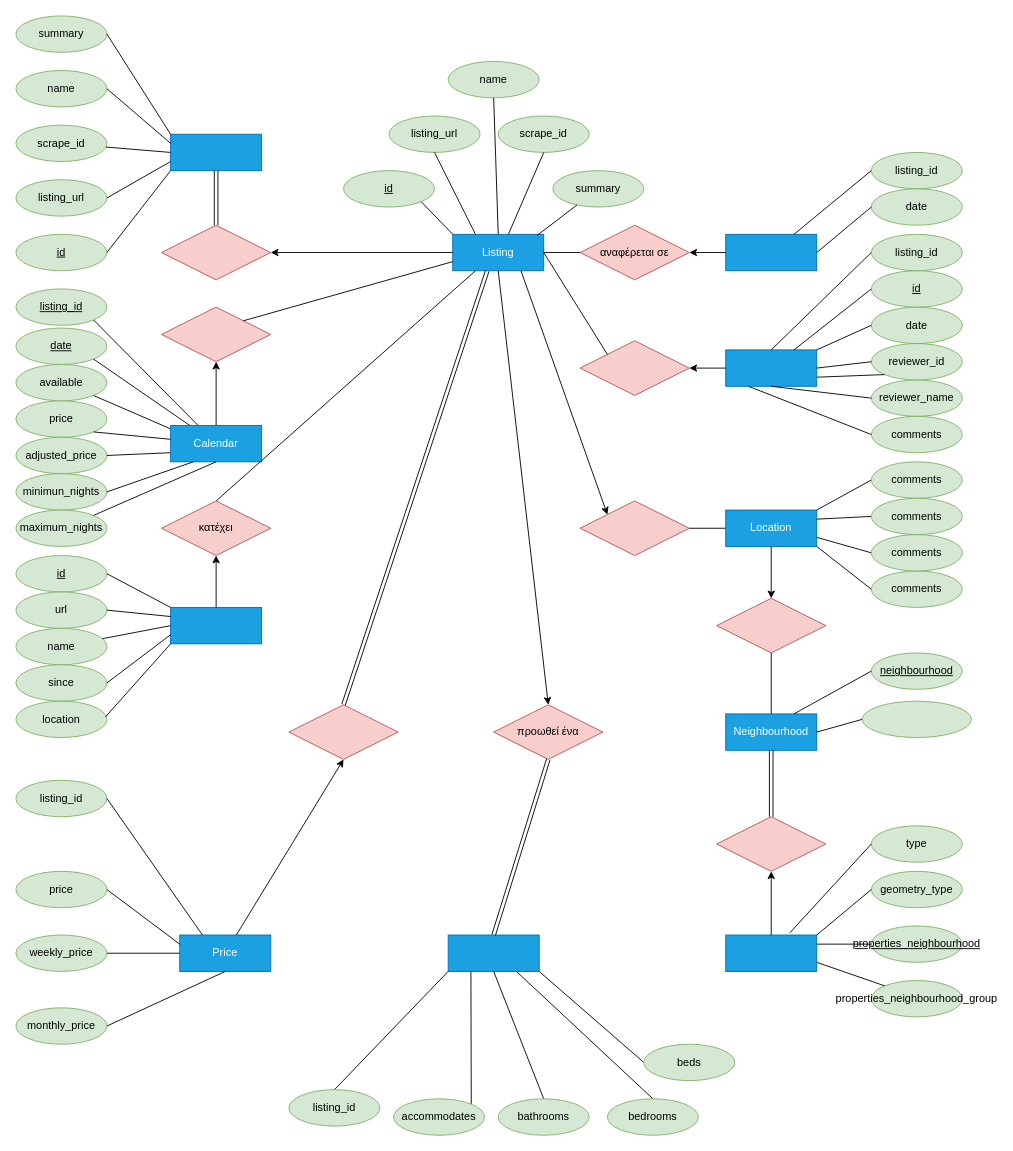
This 1013x1151 diagram has some shape labels left out. The centre of each missing label's shape, as x and y in pixels:
Geolocation: (x=771, y=952)
Host: (x=216, y=625)
Listing-Summary: (x=216, y=152)
neighbourhood_group: (x=916, y=719)
Review: (x=771, y=367)
Review-Summary: (x=771, y=252)
Room: (x=493, y=952)
ανήκει σε: (x=771, y=625)
αξιολογεί: (x=634, y=367)
βρίσκεται σε: (x=634, y=528)
κοστολογεί: (x=343, y=731)
περιγράφει: (x=216, y=334)
συνοψίζεται από: (x=216, y=252)
χαρακτηρίζει: (x=771, y=843)
